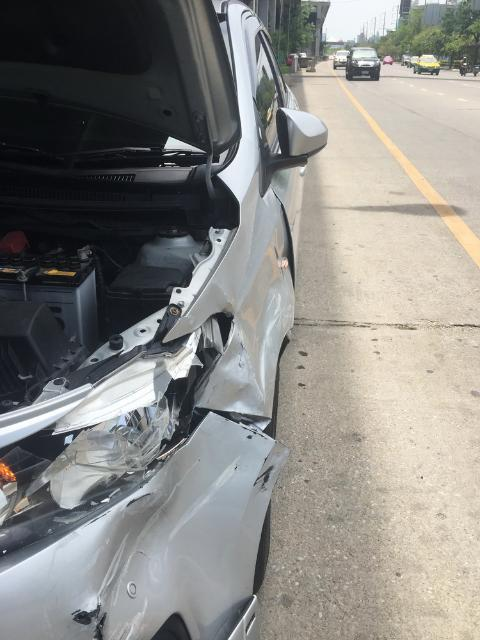crack: (73, 604, 109, 640)
dent: (91, 446, 220, 640), (218, 260, 285, 411)
dislocated part: (0, 409, 299, 640)
lamp broken: (0, 313, 233, 572)
scratch: (256, 458, 278, 496)
